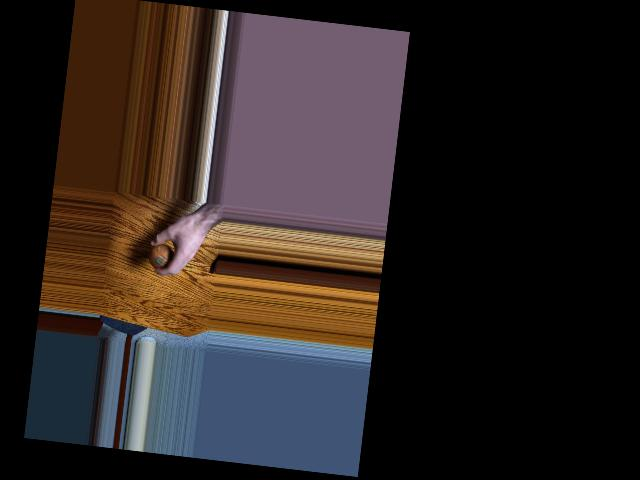onion: (146, 241, 173, 271)
